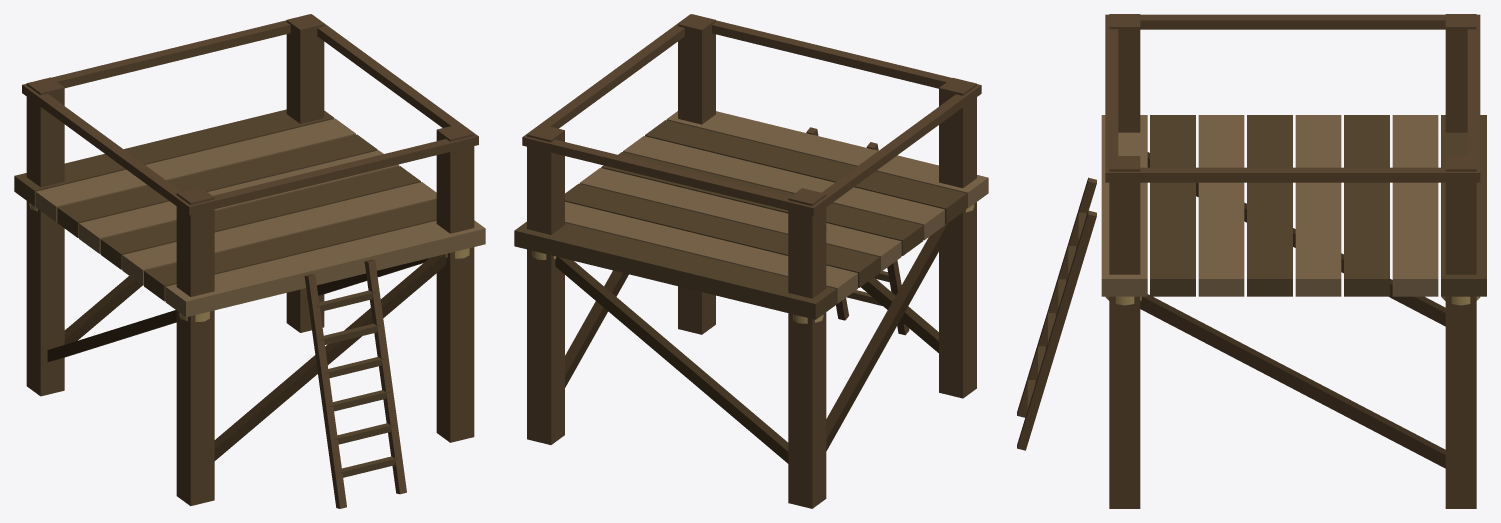
File: jt_wooden_platform.glb
3 views of the same model, side by side, from view 1: azimuth 30°, elevation 25°; view 2: azimuth 150°, elevation 25°; view 3: azimuth 270°, elevation 25° (orthographic). The views are drawn at different scales.
Parts seen in each view (by area): view 1: jt_wooden_platform; view 2: jt_wooden_platform; view 3: jt_wooden_platform.
Boxes of the visible parts, box(x1,y1,x2,y2) form: jt_wooden_platform: box(14, 14, 485, 508); jt_wooden_platform: box(514, 14, 988, 508); jt_wooden_platform: box(1017, 14, 1486, 508).
Size of the model in its own units: 3 by 2.91 by 3.63.
